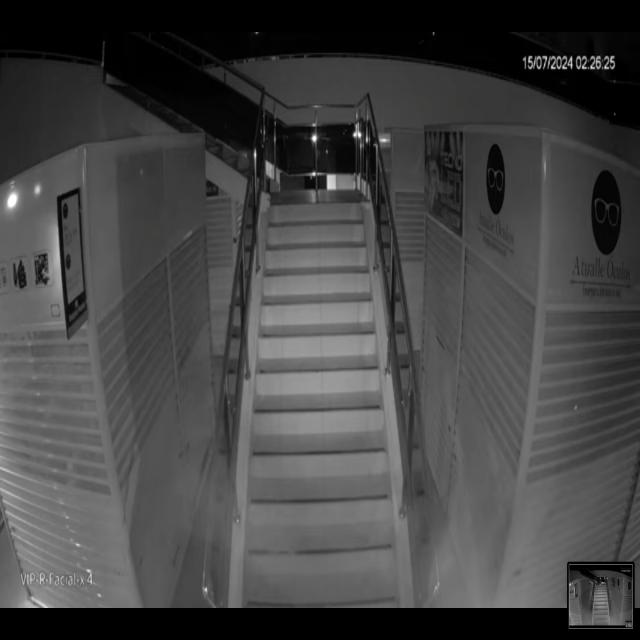Atencao: (184, 379, 547, 601)
